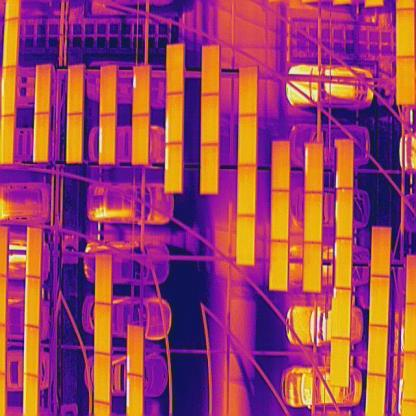Cell: (332, 288, 352, 338)
No-Anomaly: (369, 276, 390, 326), (368, 326, 389, 375), (271, 189, 290, 242), (303, 191, 322, 244), (371, 226, 391, 276), (396, 54, 416, 104), (238, 116, 257, 168), (237, 165, 256, 217), (238, 66, 258, 115), (271, 241, 290, 292), (201, 143, 219, 196), (236, 216, 255, 266), (94, 302, 112, 354), (99, 66, 117, 117), (201, 94, 219, 145), (396, 7, 414, 58), (166, 44, 184, 94), (94, 352, 111, 404), (272, 141, 290, 190), (304, 243, 322, 292), (202, 46, 220, 95), (332, 339, 350, 387), (34, 63, 50, 114), (2, 17, 18, 68), (132, 114, 148, 164), (26, 228, 42, 277), (96, 254, 112, 303), (0, 114, 15, 165), (339, 140, 354, 188), (68, 113, 82, 164), (68, 64, 82, 114), (23, 374, 39, 416)
Unclassified: (165, 143, 183, 193), (336, 189, 354, 238), (335, 239, 353, 288), (166, 91, 183, 142), (127, 325, 144, 375), (0, 66, 17, 115), (133, 66, 150, 115), (305, 144, 322, 193), (34, 112, 50, 162), (100, 114, 116, 164), (25, 277, 41, 327), (23, 328, 39, 376), (127, 374, 143, 416)
